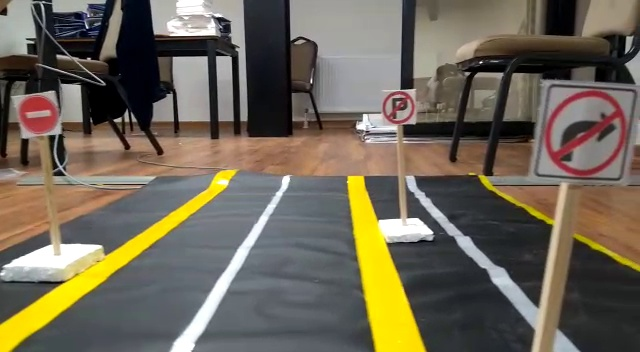girisi_olmayan_yol: (11, 89, 63, 135)
park_yapilmaz: (381, 91, 417, 124)
saga_donulmez: (542, 83, 624, 179)
